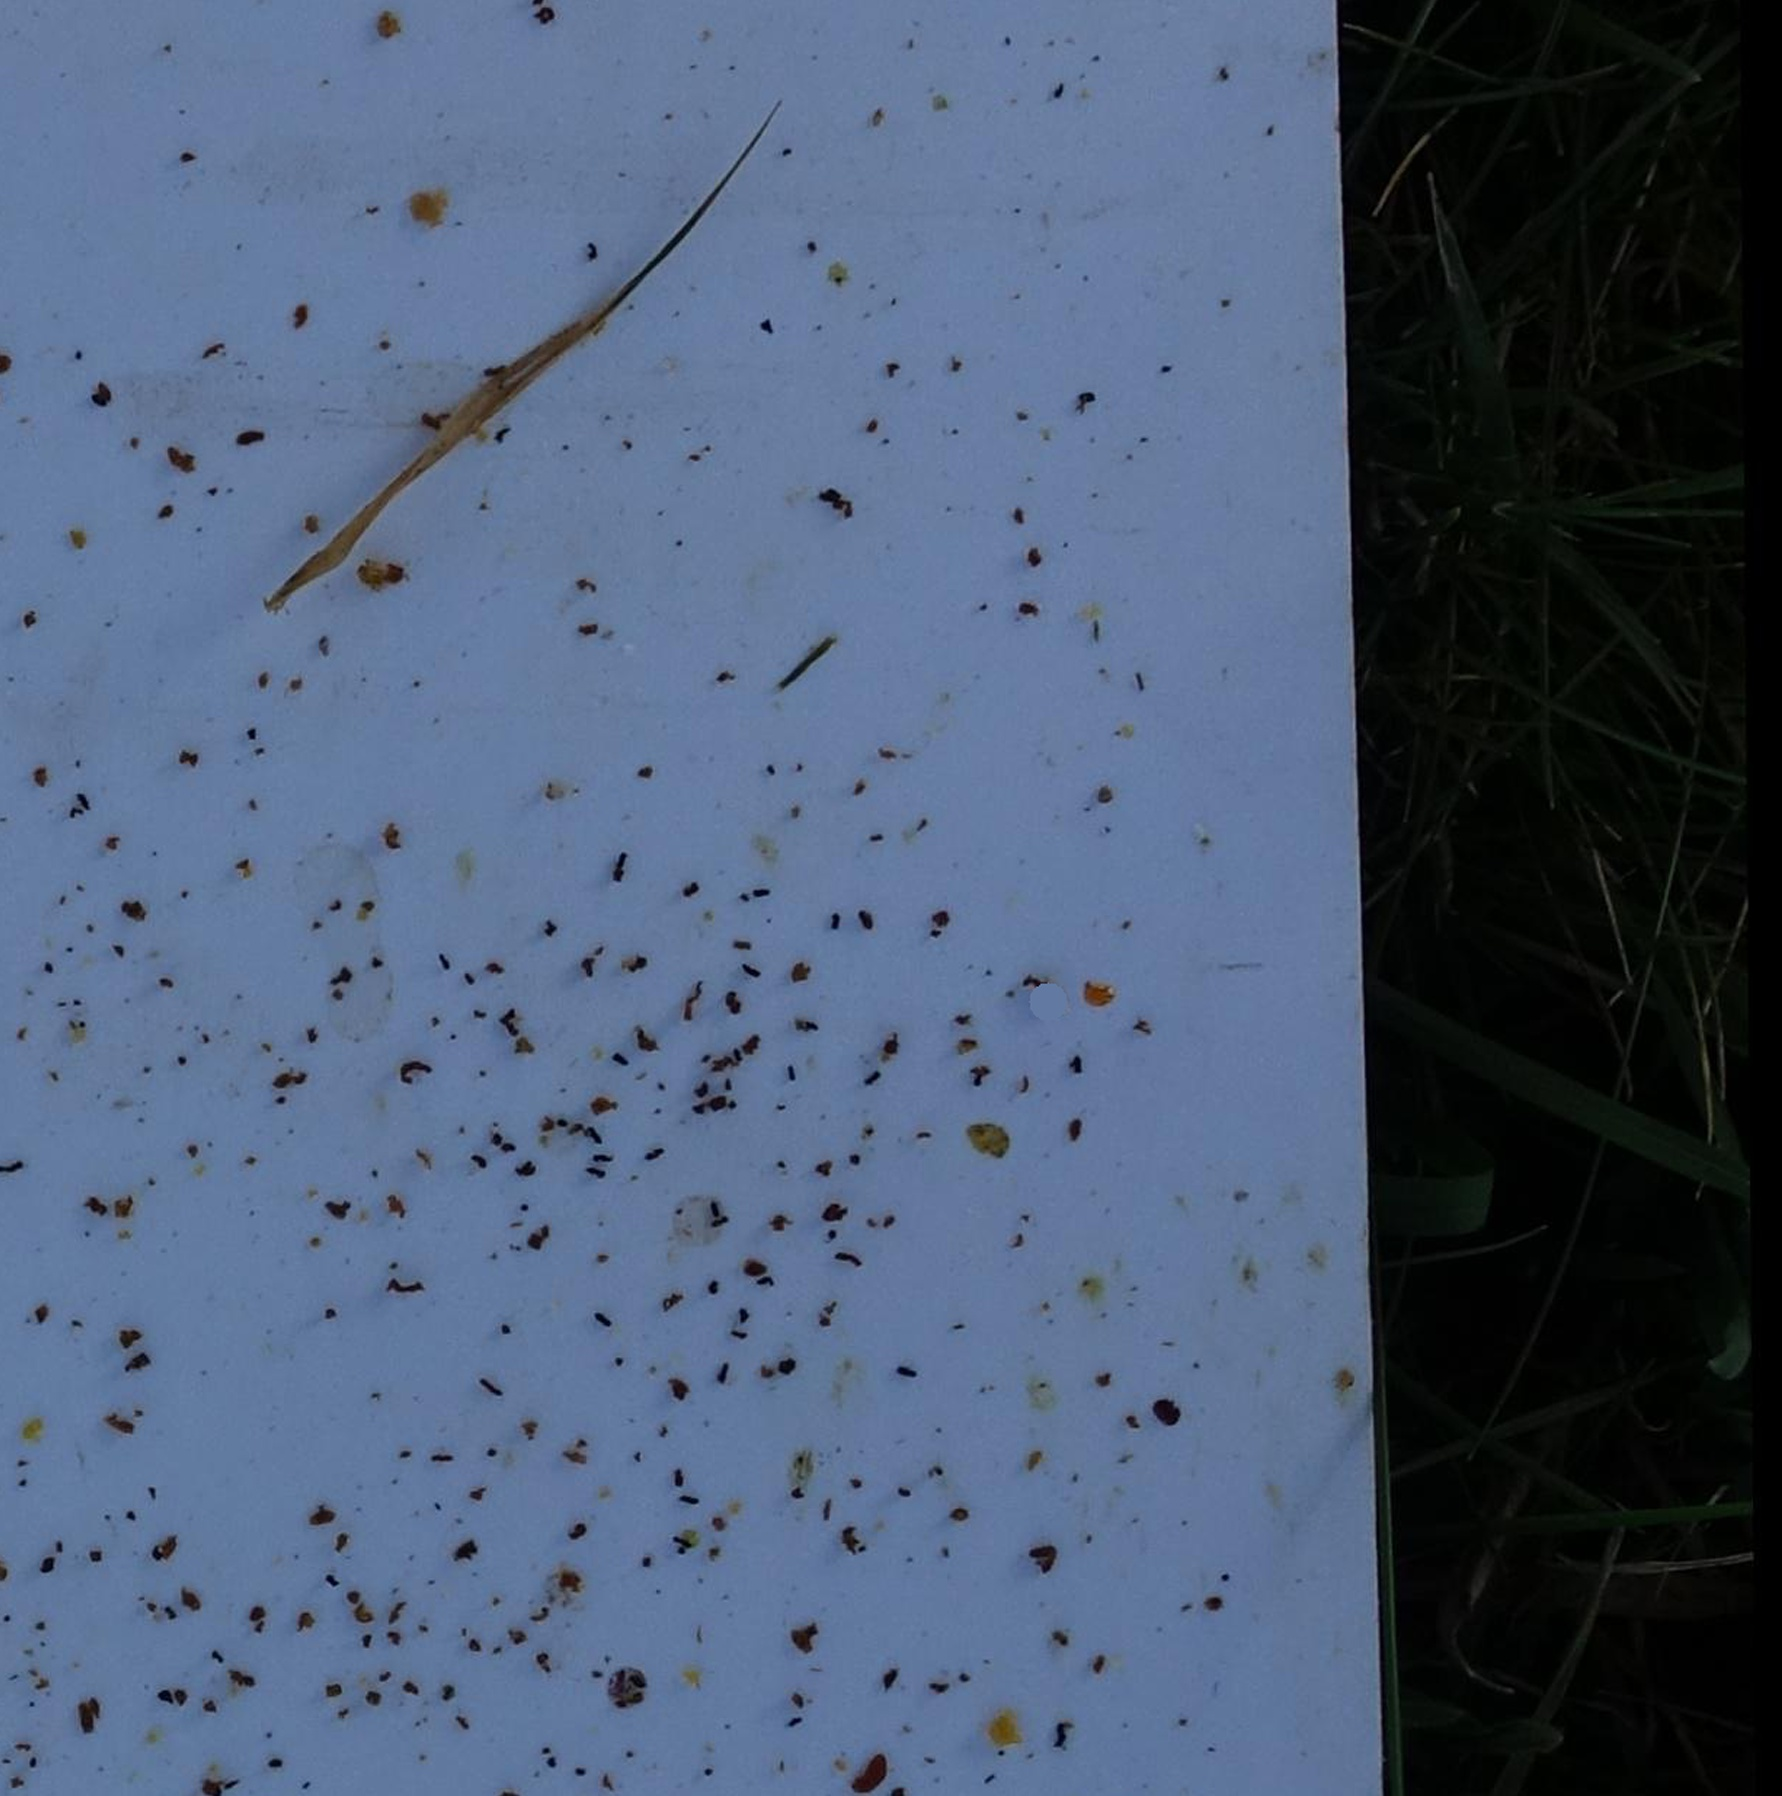Varroa: (1147, 1401, 1181, 1439)
